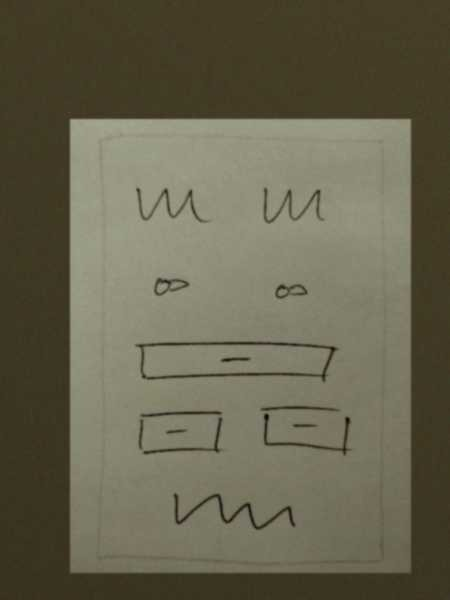button: (128, 336, 341, 392), (256, 400, 354, 462), (134, 405, 230, 461)
switch: (264, 275, 316, 310), (145, 269, 199, 302)
text: (160, 482, 301, 536), (130, 179, 216, 234), (253, 179, 329, 231)
